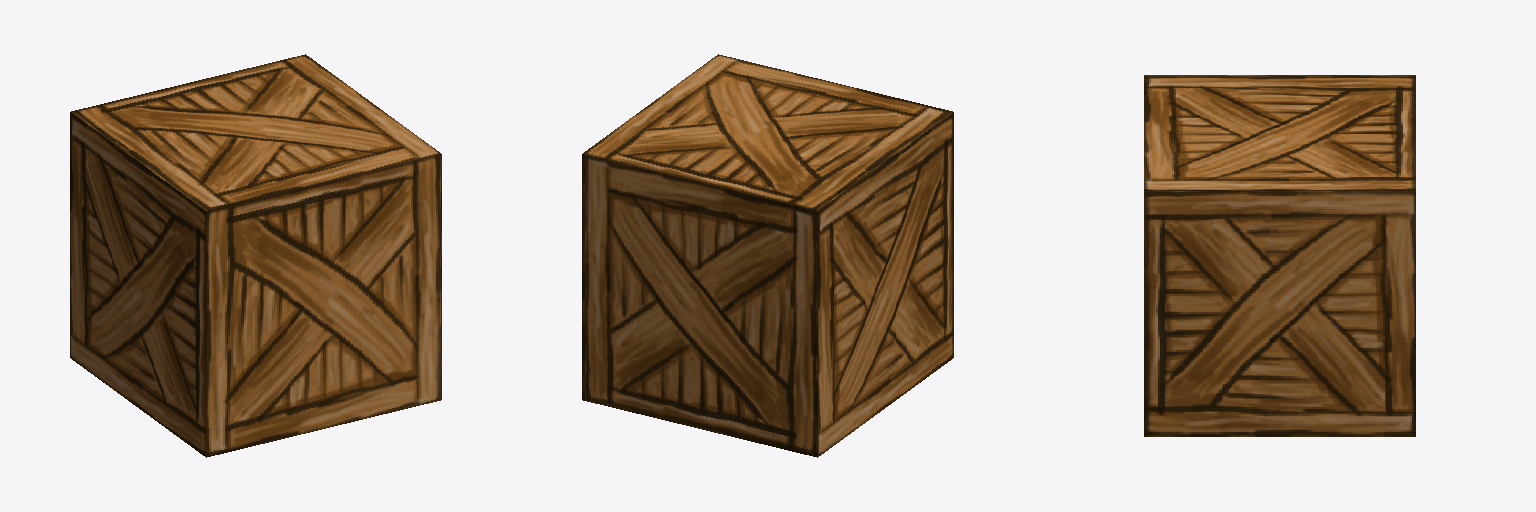
3 renders of one model, left to right at view 1: azimuth 30°, elevation 25°; view 2: azimuth 150°, elevation 25°; view 3: azimuth 270°, elevation 25°, orthographic.
Visible parts, largest first — view 1: Cube_Cube.001; view 2: Cube_Cube.001; view 3: Cube_Cube.001.
Boxes of the visible parts, <box> form: Cube_Cube.001: <box>70,54,441,457</box>; Cube_Cube.001: <box>582,54,953,457</box>; Cube_Cube.001: <box>1144,75,1415,436</box>.
Bounding box in the file's own units: 0.7 × 0.7 × 0.7.
1 materials, 1 textured.